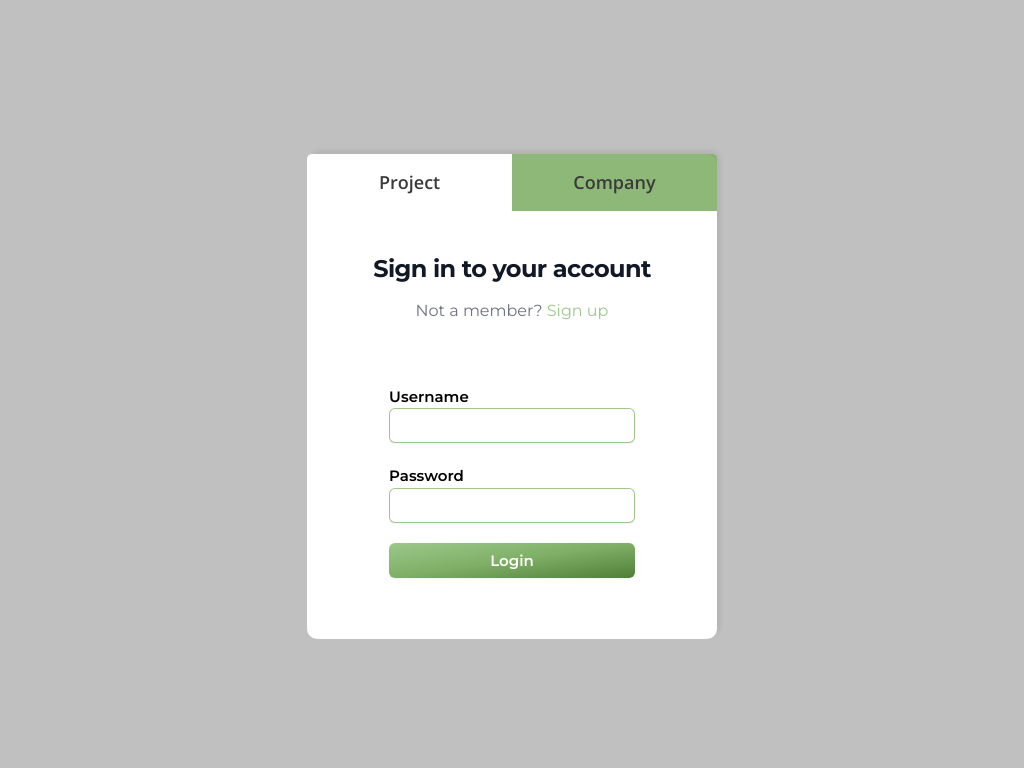
Test: LoginForm › handles network error
This screenshot has width=1024, height=768.
In the field labelled "Username": point(512, 426) [389,408,635,443], type "testuser"
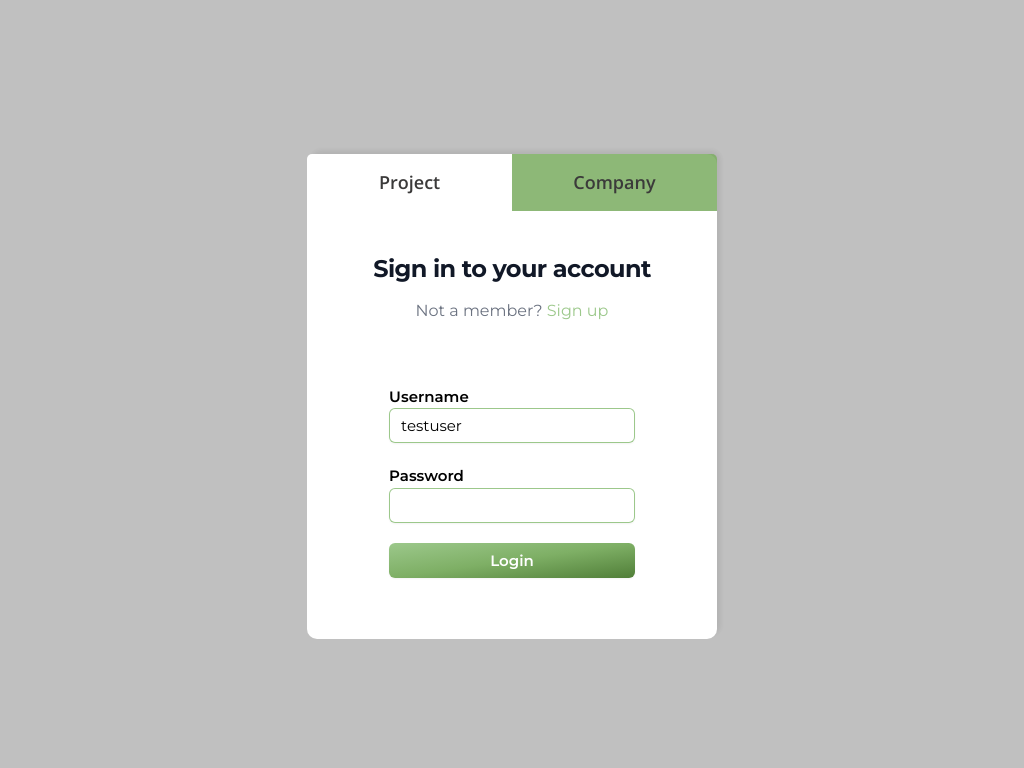
In the password field labelled "Password": point(512, 505) [389,488,635,522], type "testpassword"
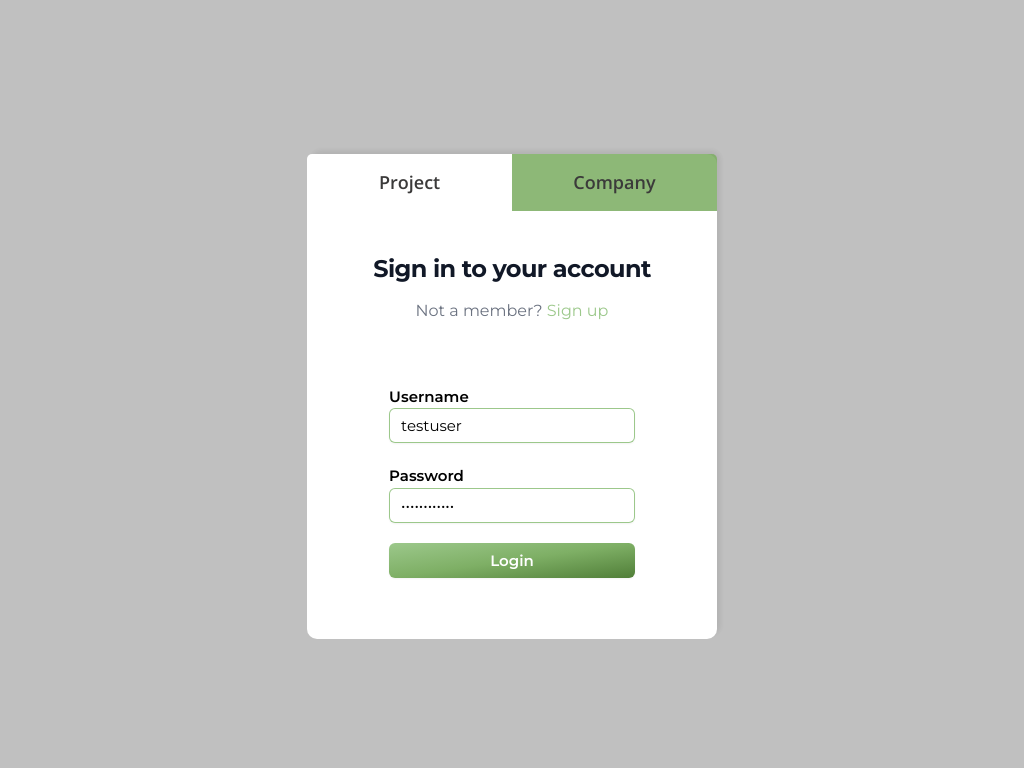
Submit the form from the button "Login", box [389,542,635,578]
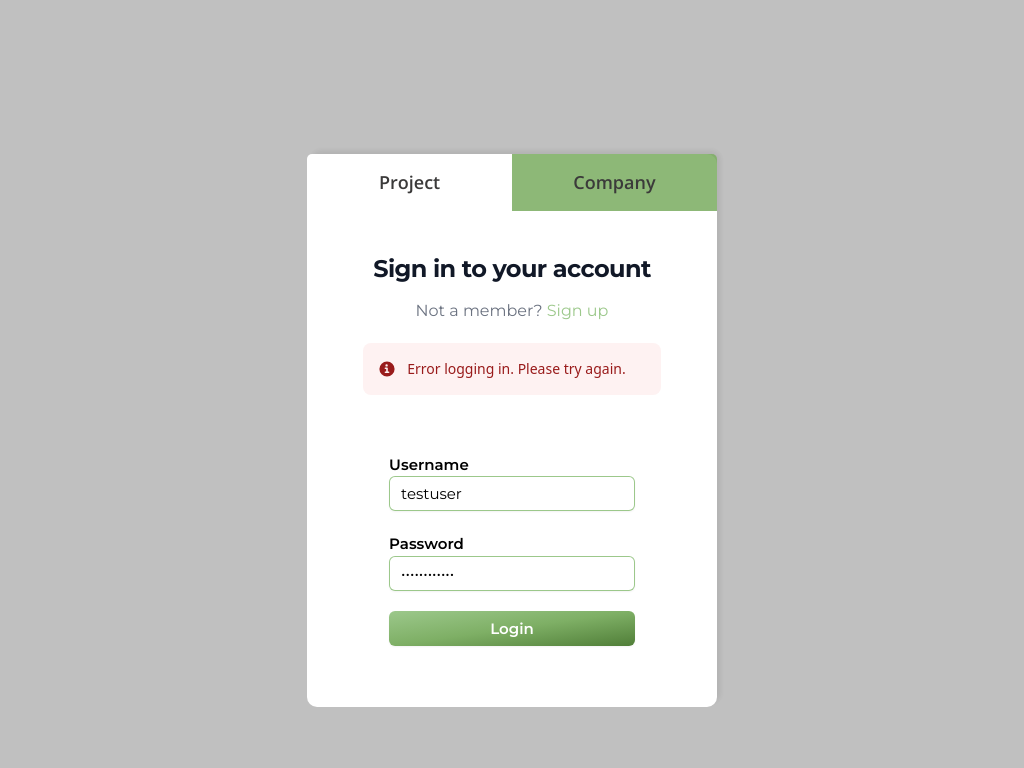
Expected: the text "Error logging in. Please try again." is shown, [407,359,626,378]
